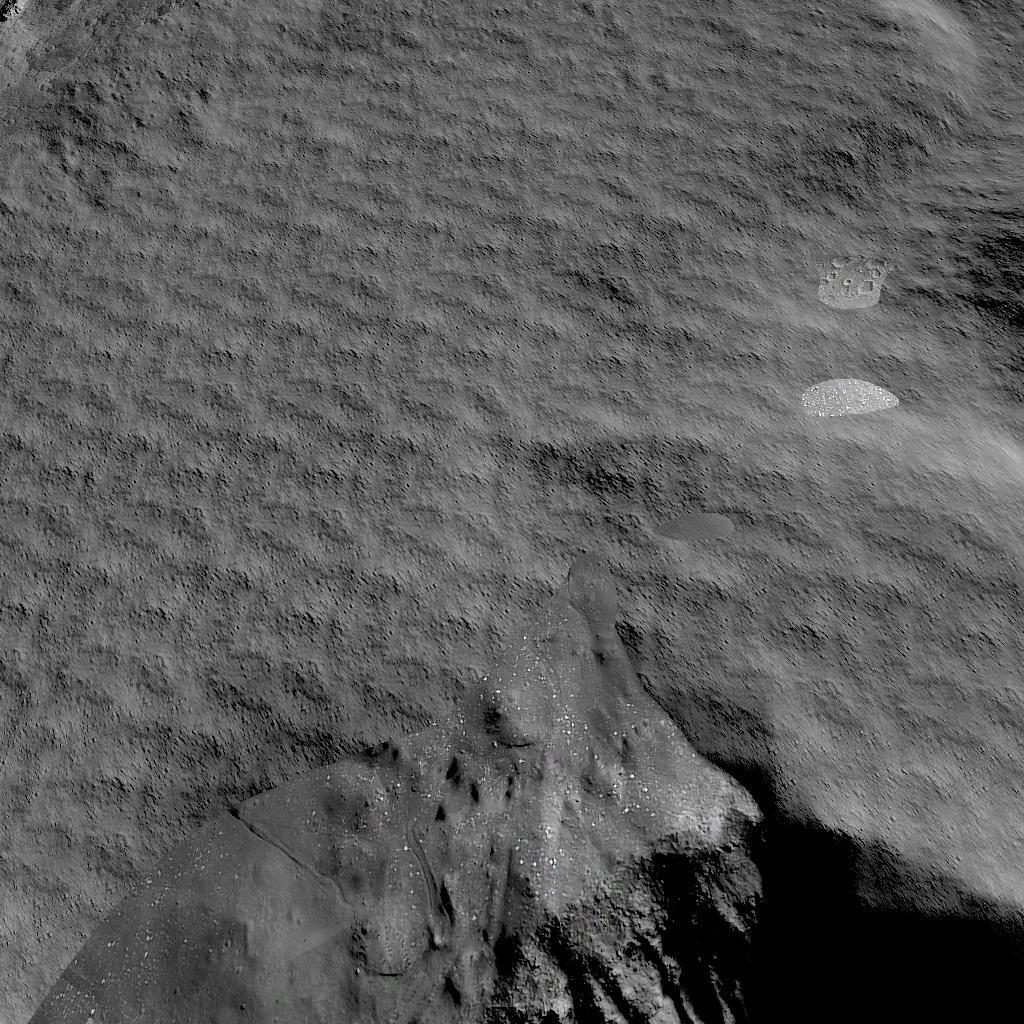Crater: (36, 720, 1024, 1024), (961, 210, 1024, 370)
Plan surface: (46, 0, 936, 703)
